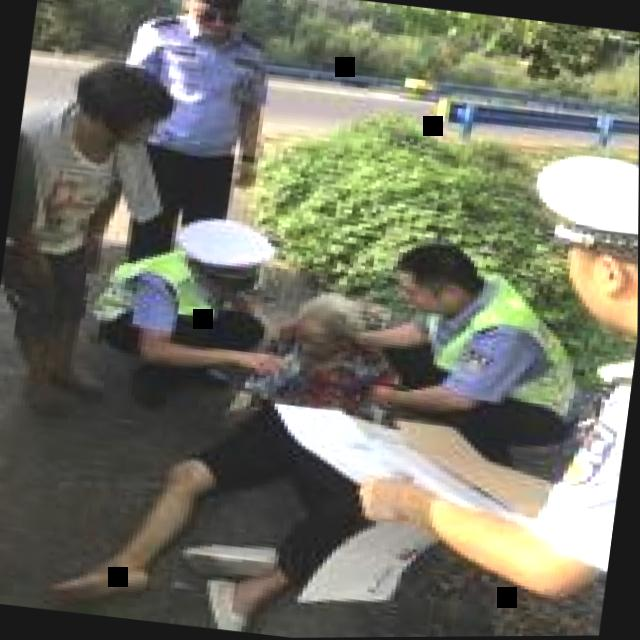Fall-Detected: (38, 238, 404, 640)
